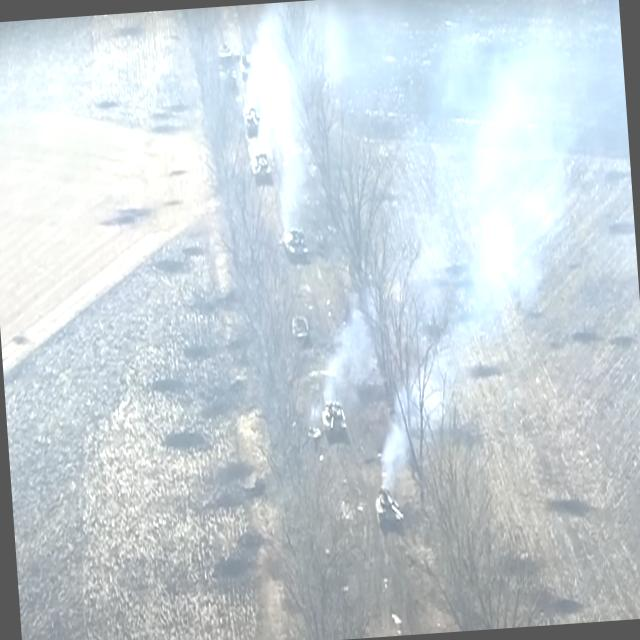AIFV: (291, 310, 313, 350), (216, 38, 236, 71), (220, 64, 240, 95), (569, 576, 570, 578)
MBT: (269, 223, 312, 272), (375, 483, 406, 532), (321, 395, 350, 441), (250, 148, 275, 188), (244, 106, 265, 142), (239, 53, 260, 89)
